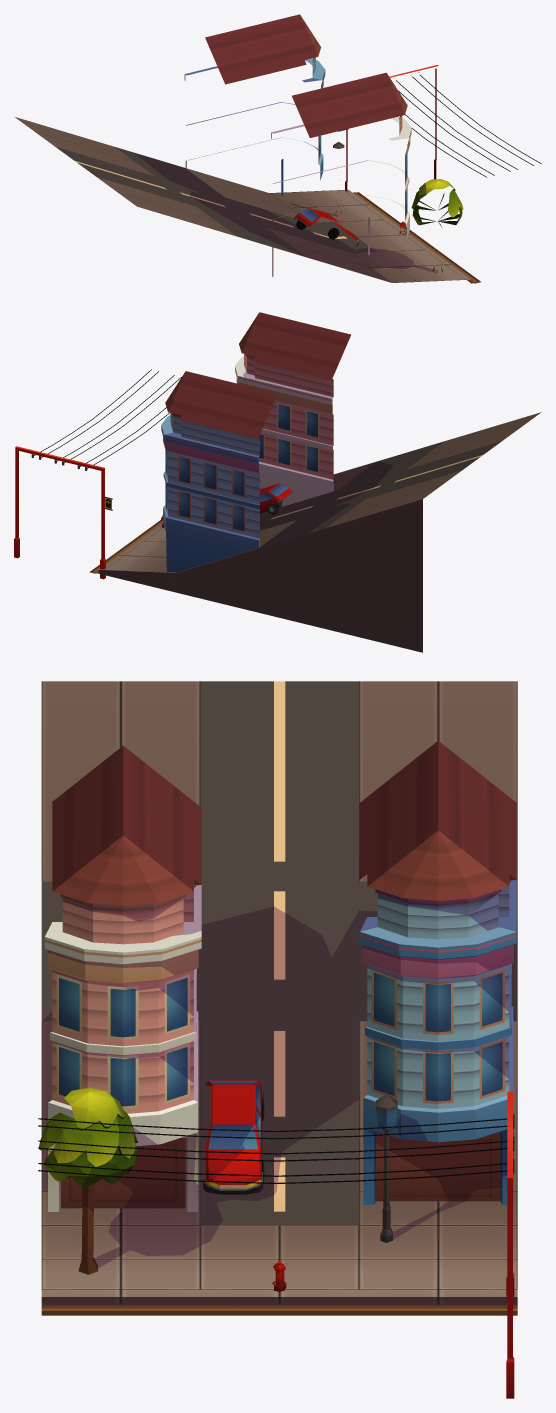
File: 1.100_SanFrancisco_high_01_right.glb
3 views of the same model, one above another, from view 1: azimuth 30°, elevation 25°; view 2: azimuth 150°, elevation 25°; view 3: azimuth 270°, elevation 25° (orthographic). The views are drawn at different scales.
Visible parts, largest first — view 1: 1.100_SanFrancisco_high_01_right; view 2: 1.100_SanFrancisco_high_01_right; view 3: 1.100_SanFrancisco_high_01_right.
Part boxes in pixels (x1,y1,x2,y2): 1.100_SanFrancisco_high_01_right: (15, 14, 541, 283); 1.100_SanFrancisco_high_01_right: (14, 312, 541, 652); 1.100_SanFrancisco_high_01_right: (38, 681, 517, 1398).
Size of the model in its own units: 358 by 175 by 181.
3 materials, 3 textured.
